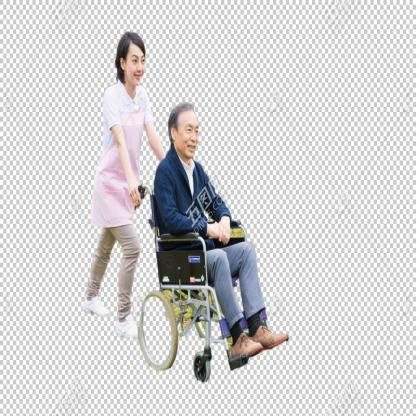wheelchair: (139, 102, 291, 383)
